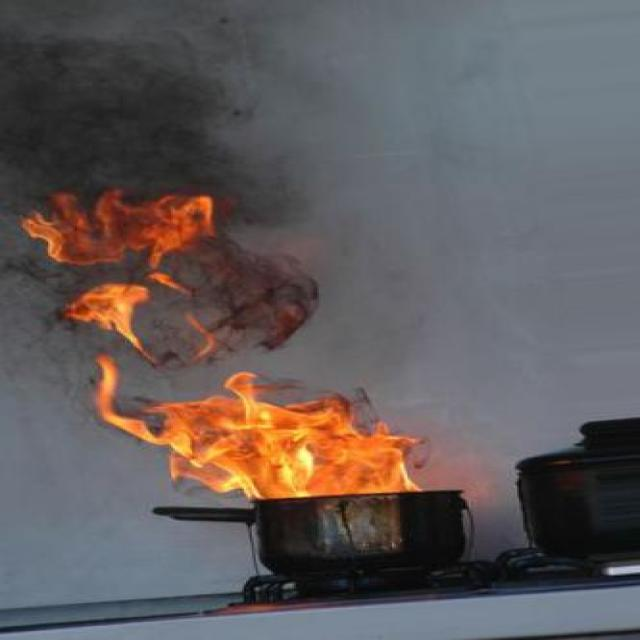fire: (100, 375, 422, 496), (32, 194, 215, 357)
